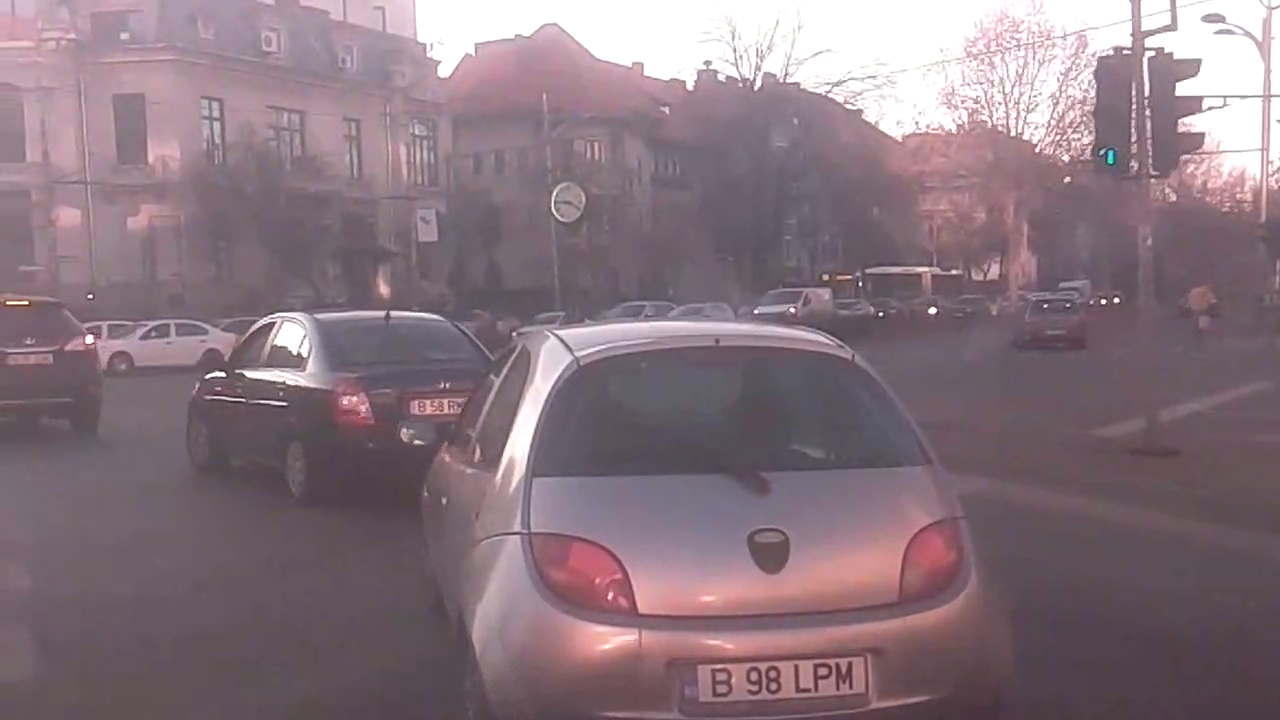license-plate: (675, 649, 873, 706)
